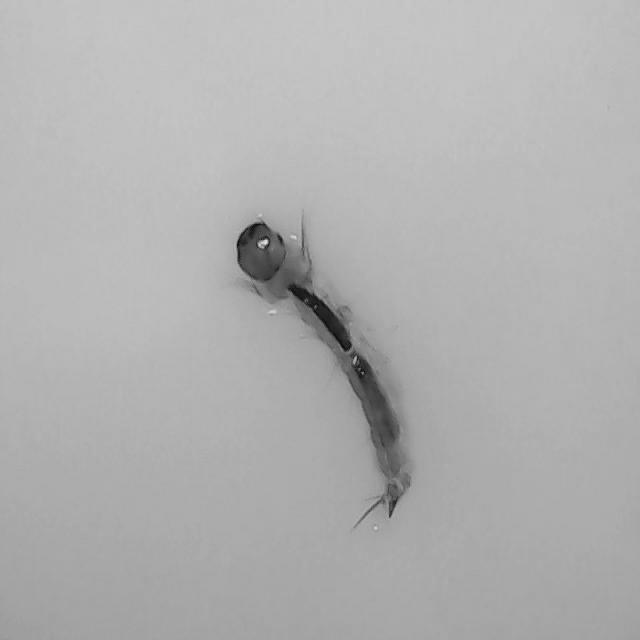larvas: (238, 217, 407, 508)
